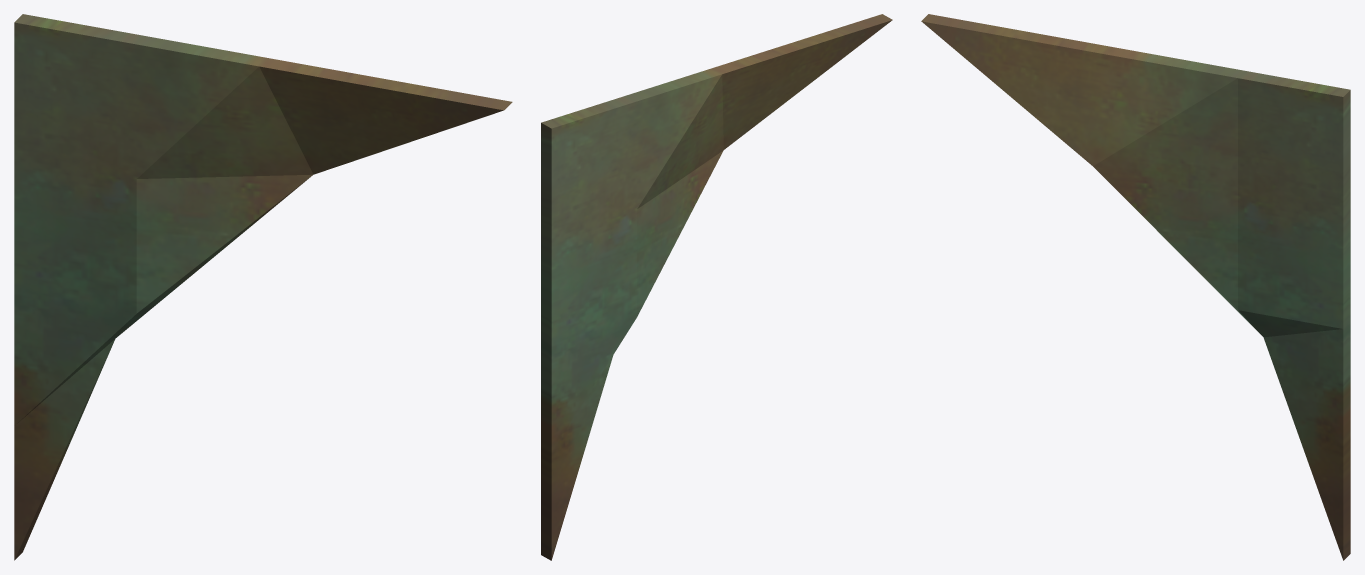
Rendered from GH_1_EmbCR_5.gltf.
3 views of the same model, side by side, from view 1: azimuth 90°, elevation 25°; view 2: azimuth 150°, elevation 25°; view 3: azimuth 270°, elevation 25° (orthographic). The views are drawn at different scales.
Parts seen in each view (by area): view 1: GH_1_EmbCR_5; view 2: GH_1_EmbCR_5; view 3: GH_1_EmbCR_5.
Boxes of the visible parts, <box> form: GH_1_EmbCR_5: <box>14,14,512,560</box>; GH_1_EmbCR_5: <box>541,14,892,560</box>; GH_1_EmbCR_5: <box>921,14,1350,560</box>.
Bounding box in the file's own units: 0.5378 × 1.4 × 1.18.
Materials: 1 (1 with a texture image).
